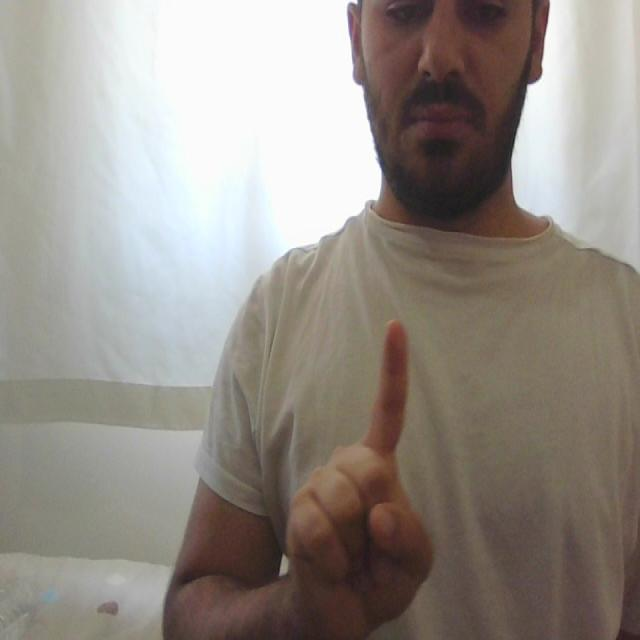Hayir: (269, 314, 439, 640)
